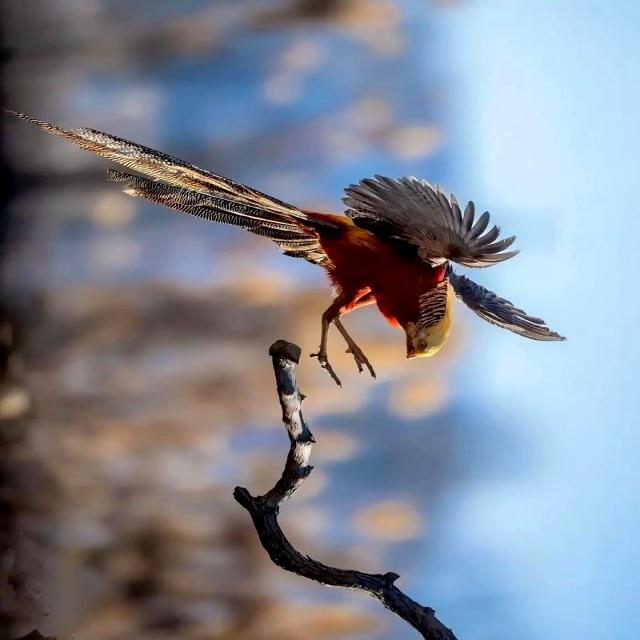Chrysolophus pictus feather: (9, 111, 329, 264)
